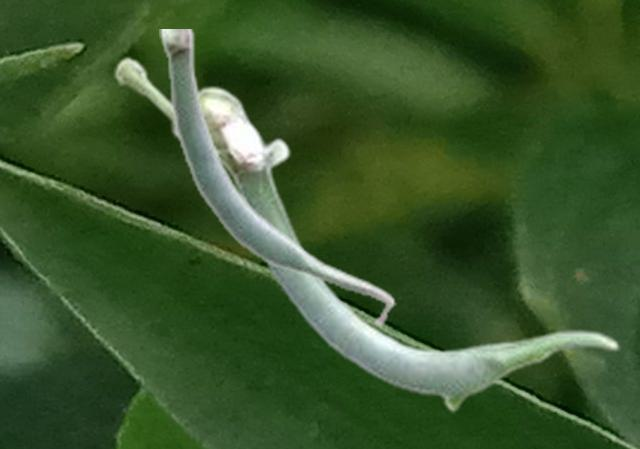french_bean: (113, 55, 619, 412), (159, 29, 395, 327)
